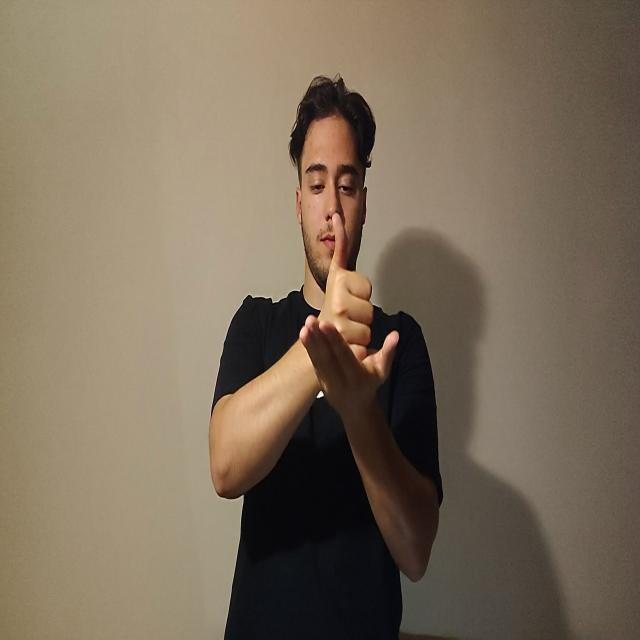help: (303, 215, 401, 415)
